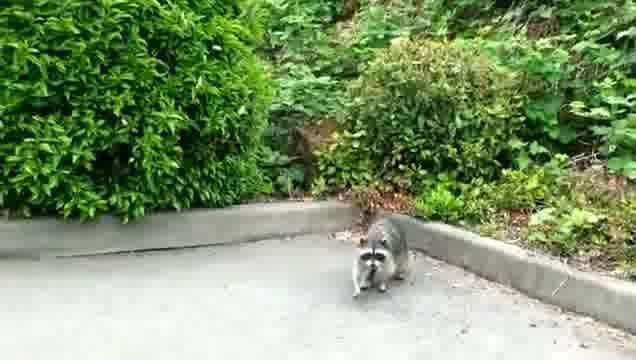raccoon: (350, 219, 410, 302)
